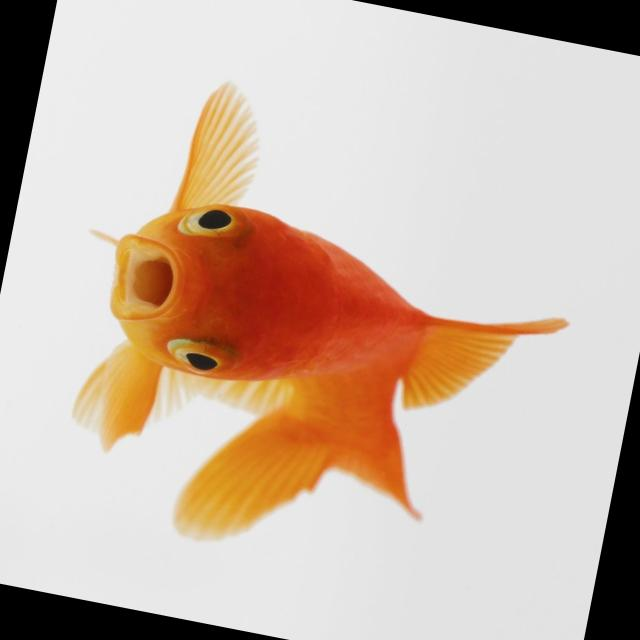GoldFish: (32, 51, 608, 604)
